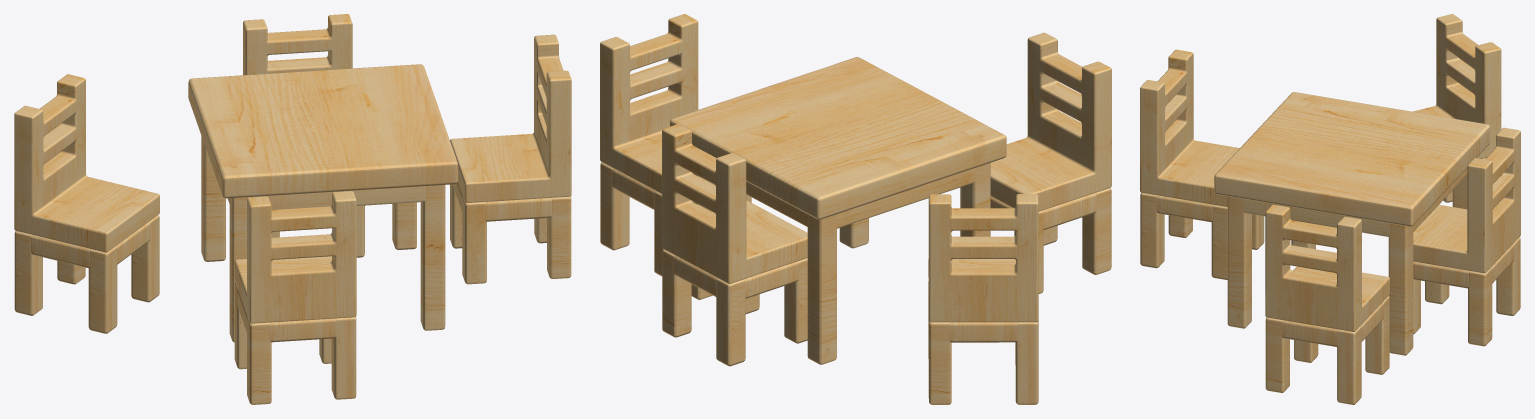
The model's file is kids_table.glb.
The picture shows the model from 3 angles, left to right: view 1: azimuth 30°, elevation 25°; view 2: azimuth 150°, elevation 25°; view 3: azimuth 270°, elevation 25°; orthographic projection. The views are drawn at different scales.
Parts seen in each view (by area): view 1: pCube13 (×4), pCube1, pCube10 (×3), pCube16 (×3), pCube12 (×2), pCube5, pCube3 (×2), pCube6, pCube9, pCube2, pCube18, pCube11 (+3 smaller); view 2: pCube13 (×4), pCube1, pCube12 (×3), pCube16 (×3), pCube6, pCube18 (×2), pCube3 (×2), pCube14, pCube17 (×2), pCube2, pCube11, pCube8 (+2 smaller); view 3: pCube13 (×4), pCube1, pCube12 (×3), pCube16 (×3), pCube7, pCube5, pCube3 (×3), pCube15, pCube18 (×2), pCube17 (×2), pCube10 (×3), pCube11 (+2 smaller).
Part boxes in pixels (x1,y1,x2,y2): pCube13 (×4): [14, 14, 571, 323]; pCube1: [188, 64, 458, 198]; pCube10 (×3): [131, 196, 486, 369]; pCube16 (×3): [57, 196, 571, 404]; pCube12 (×2): [14, 231, 356, 399]; pCube5: [420, 185, 445, 330]; pCube3 (×2): [88, 184, 462, 333]; pCube6: [201, 136, 225, 261]; pCube9: [253, 186, 425, 209]; pCube2: [229, 197, 251, 342]; pCube18: [269, 318, 336, 342]; pCube11: [485, 198, 551, 221]; pCube13 (×4): [600, 14, 1111, 322]; pCube1: [670, 57, 1006, 219]; pCube12 (×3): [600, 162, 1038, 404]; pCube16 (×3): [662, 188, 1111, 404]; pCube6: [807, 214, 836, 364]; pCube18 (×2): [674, 255, 1017, 342]; pCube3 (×2): [654, 191, 807, 343]; pCube14: [836, 167, 975, 228]; pCube17 (×2): [612, 168, 798, 298]; pCube2: [961, 163, 990, 236]; pCube11: [1042, 193, 1096, 229]; pCube8: [746, 181, 807, 226]; pCube13 (×4): [1140, 14, 1520, 331]; pCube1: [1214, 92, 1490, 226]; pCube12 (×3): [1140, 192, 1520, 404]; pCube16 (×3): [1168, 215, 1492, 392]; pCube7: [1388, 223, 1413, 355]; pCube5: [1227, 196, 1251, 328]; pCube3 (×3): [1211, 205, 1449, 374]; pCube15: [1243, 199, 1389, 236]; pCube18 (×2): [1281, 244, 1514, 346]; pCube17 (×2): [1156, 195, 1383, 341]; pCube10 (×3): [1252, 214, 1420, 362]; pCube11: [1413, 261, 1469, 288].
Size of the model in its own units: 25.16 by 9.9 by 18.99.
Materials: 1 (1 with a texture image).
